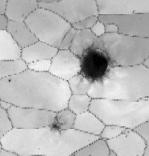good_void: (73, 38, 118, 85), (46, 110, 68, 136), (8, 78, 12, 84)
